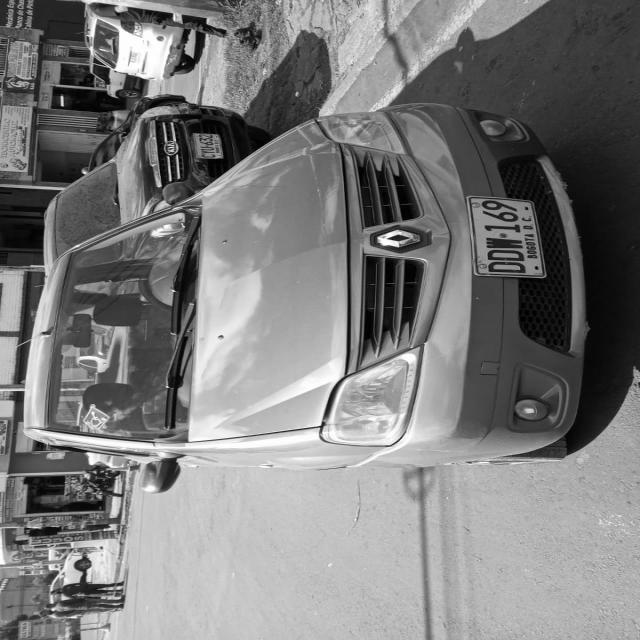plate: (459, 192, 553, 284)
